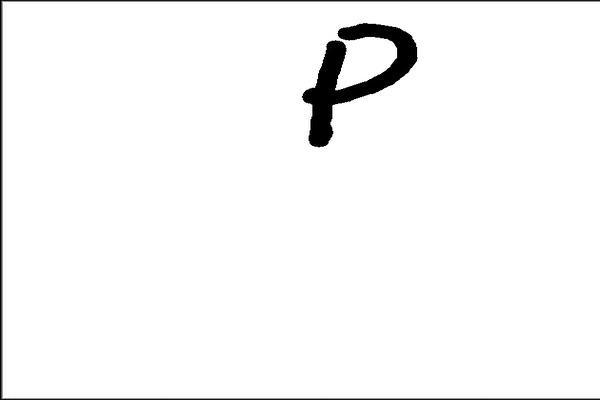P: (293, 14, 422, 161)
